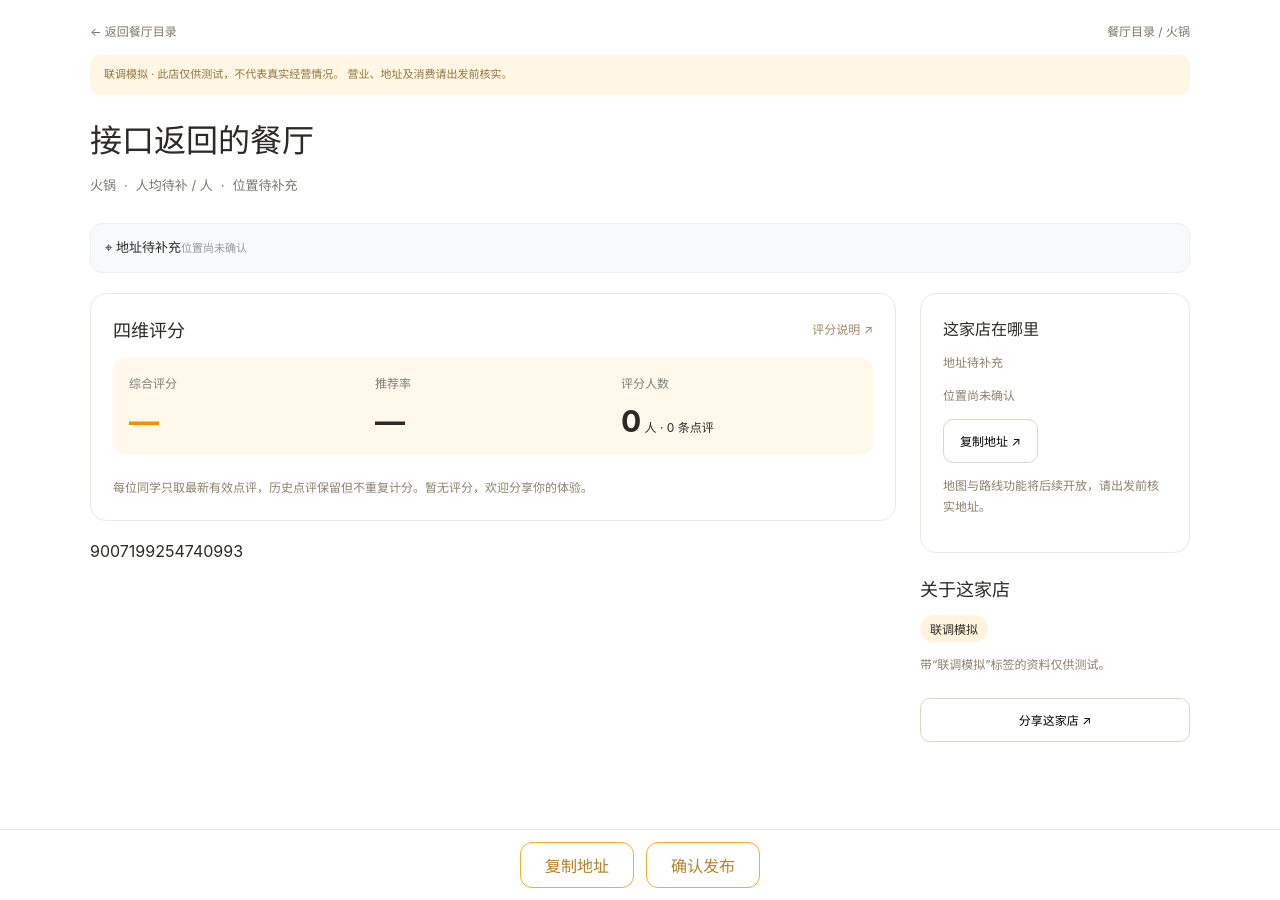
Test case: restaurant detail API integration › offers manual copy when clipboard fails and shares the database ID
Click the button with class "share-button".
click(1055, 720)  # box [920,698,1190,742]
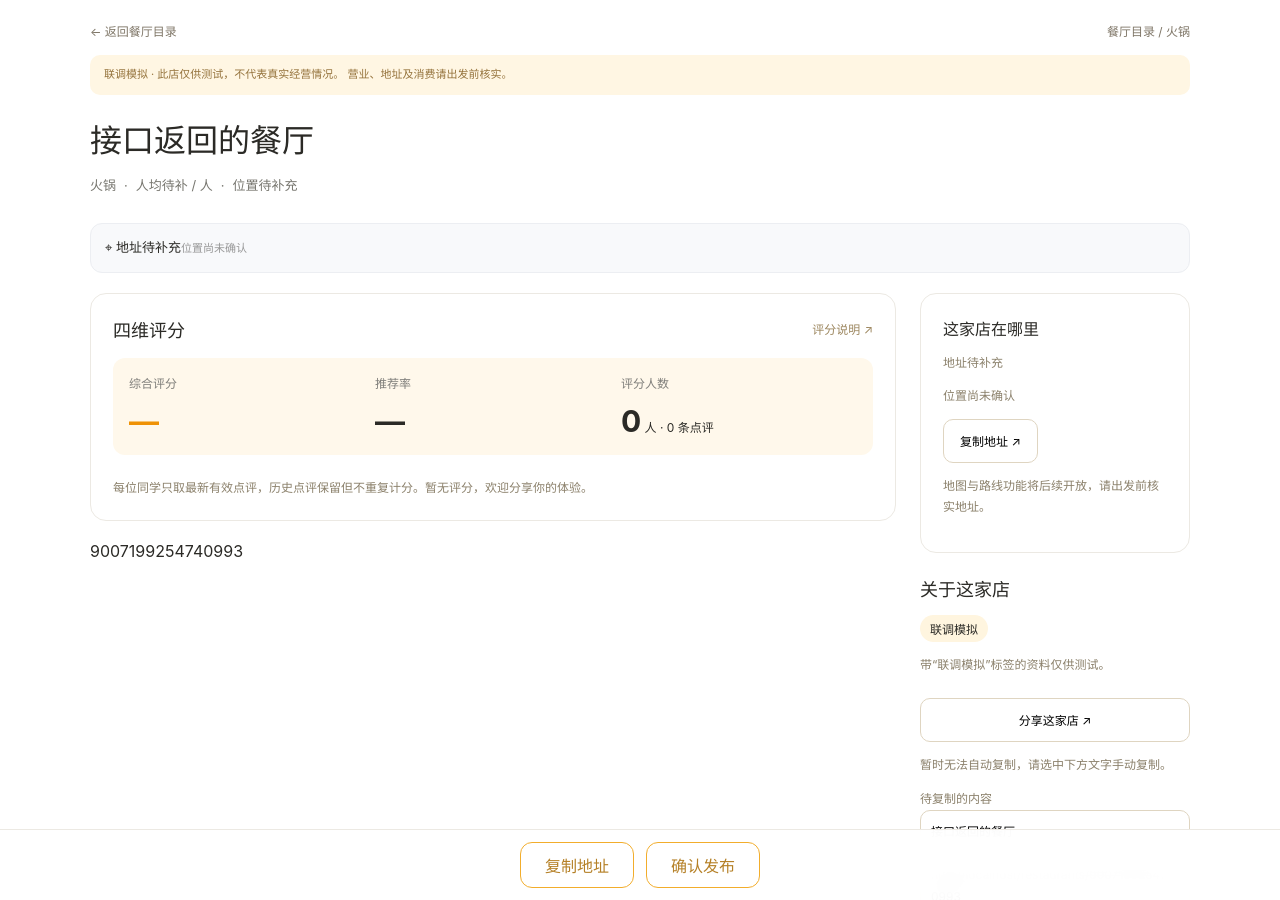
Expected: the message with class "copy-feedback" shows "手动复制", [920,756,1172,772]
